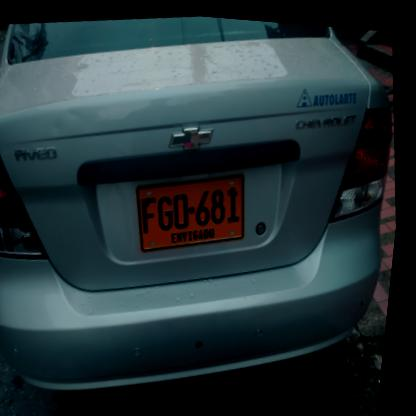placa: (127, 159, 259, 261)
